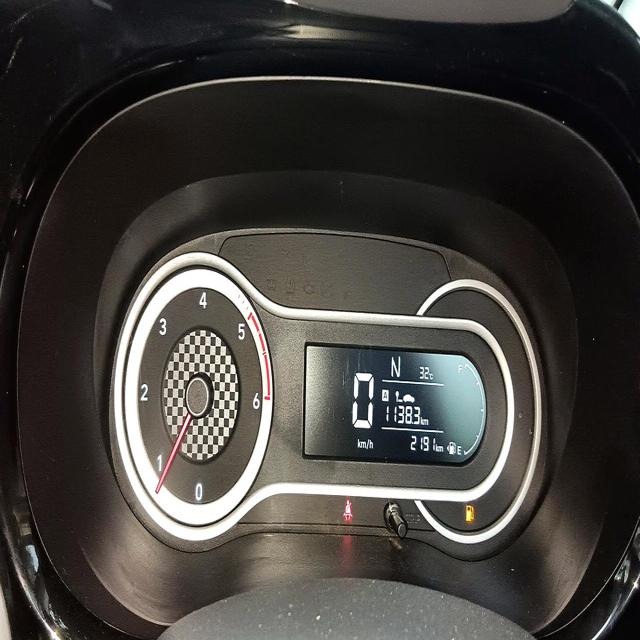odometer: (381, 402, 423, 432)
